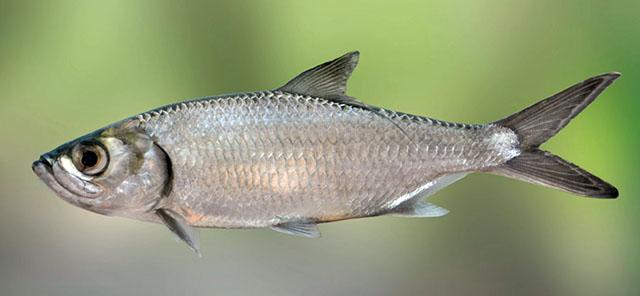Mulut: (21, 146, 70, 208)
Sirip Anal: (378, 170, 472, 233)
Sirip Dada: (150, 200, 217, 264)
Sirip Ekor: (498, 67, 634, 213)
Sirip Perut: (268, 210, 324, 248)
Sirip Punggung: (268, 44, 384, 114)
